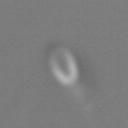normal: (71, 81, 104, 128)
